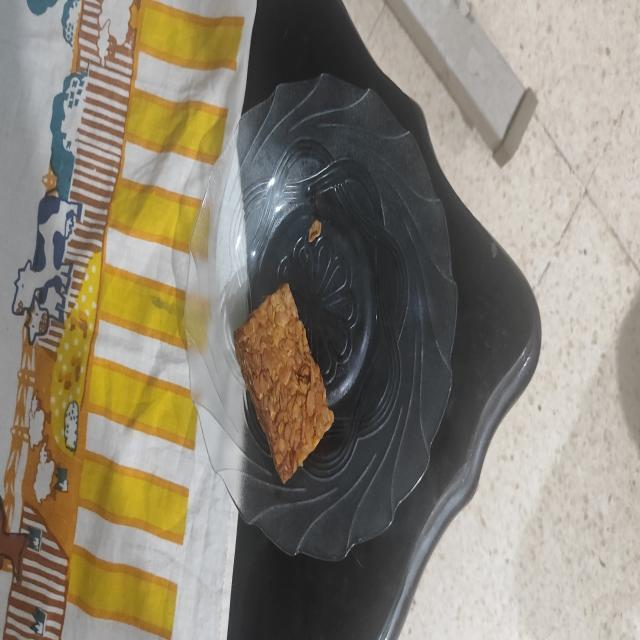tempe_goreng: (235, 284, 334, 484)
